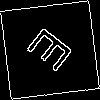E: (25, 25, 82, 80)
